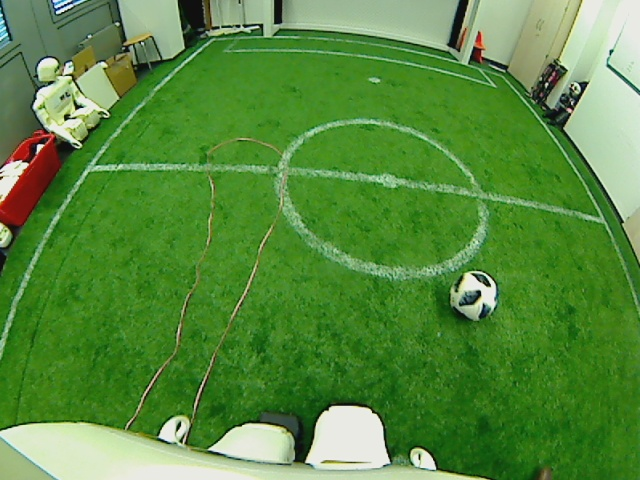ball: (447, 267, 501, 322)
